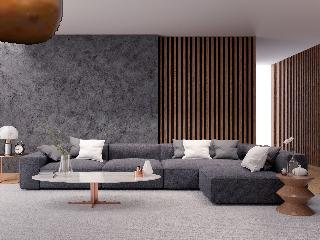potato: (0, 0, 64, 46)
